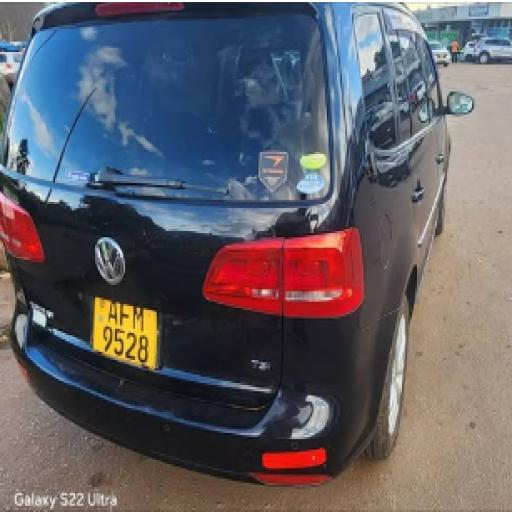number-plates: (91, 291, 152, 367)
